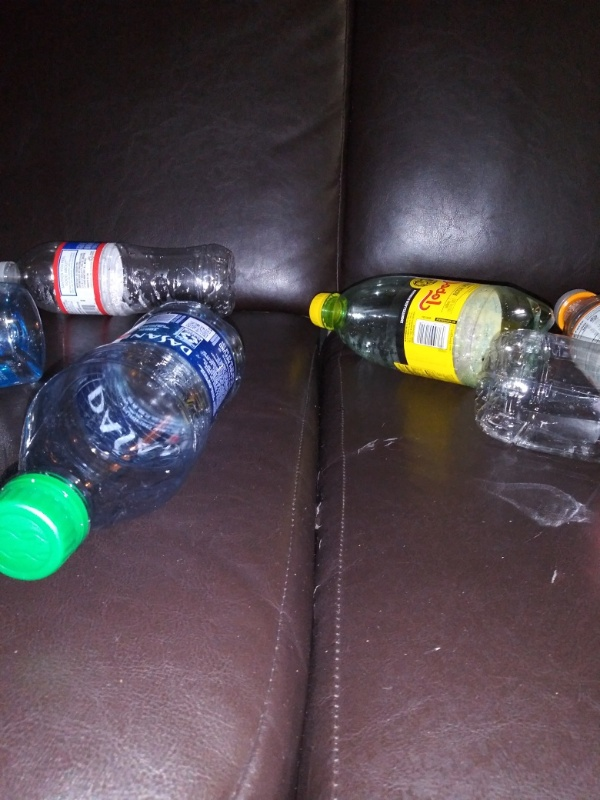bottle: (1, 298, 257, 587), (307, 272, 556, 392), (1, 235, 238, 316), (477, 323, 600, 459), (1, 283, 53, 387), (552, 284, 600, 386)
